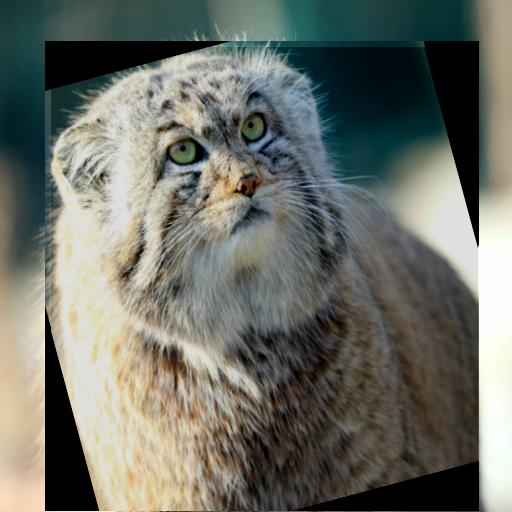manul: (52, 47, 478, 511)
